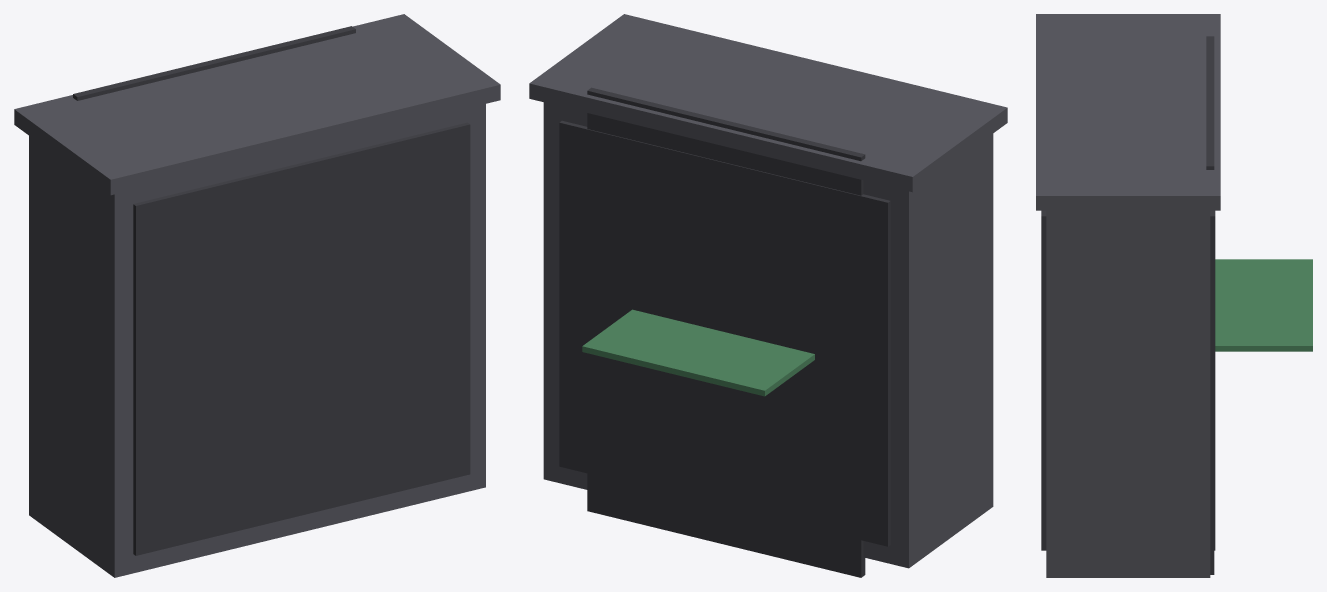
Rendered from speaker.gltf.
3 renders of one model, left to right at view 1: azimuth 30°, elevation 25°; view 2: azimuth 150°, elevation 25°; view 3: azimuth 270°, elevation 25°, orthographic. The views are drawn at different scales.
Parts seen in each view (by area): view 1: speaker; view 2: speaker; view 3: speaker.
Boxes of the visible parts, x1,y1,x2,y2 form: speaker: [14, 14, 500, 577]; speaker: [529, 14, 1007, 577]; speaker: [1036, 14, 1312, 577].
Bounding box in the file's own units: 0.21 × 0.22 × 0.135.
